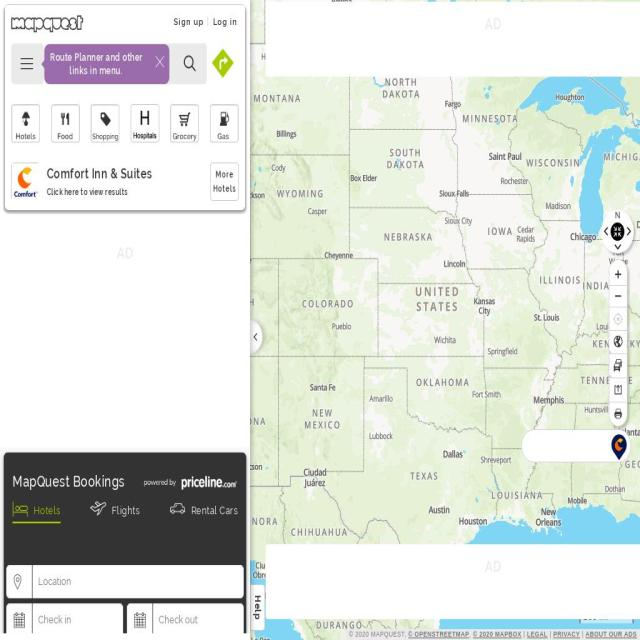button: (448, 429, 632, 463), (7, 5, 88, 38), (209, 104, 239, 143), (11, 104, 40, 143), (51, 104, 80, 143), (91, 104, 120, 143), (130, 104, 159, 143), (170, 104, 199, 143), (11, 162, 40, 201), (210, 162, 239, 201), (250, 584, 285, 604), (182, 50, 200, 78), (172, 15, 205, 29), (212, 15, 239, 29), (610, 222, 624, 241), (621, 224, 634, 241), (601, 224, 614, 241), (612, 237, 624, 253)
field: (6, 564, 244, 598), (6, 602, 123, 636), (127, 602, 244, 636), (56, 51, 180, 77)
image: (230, 259, 550, 640), (549, 259, 640, 640), (7, 13, 88, 34), (90, 104, 120, 143), (130, 104, 160, 143), (11, 104, 40, 143), (51, 104, 80, 143), (170, 104, 199, 143), (210, 104, 239, 143), (11, 162, 40, 201), (610, 432, 628, 462), (610, 222, 624, 241), (42, 44, 48, 84), (621, 224, 634, 241), (601, 224, 614, 241), (612, 237, 624, 253)
link: (408, 630, 469, 638), (585, 630, 637, 638), (472, 630, 522, 638), (553, 630, 581, 638), (527, 630, 548, 638)
text: (49, 51, 143, 77), (46, 163, 152, 185), (13, 472, 125, 490), (46, 185, 152, 199), (514, 437, 606, 451), (454, 438, 514, 451), (579, 609, 634, 623), (580, 597, 630, 611), (190, 503, 238, 517), (212, 170, 236, 193), (349, 630, 405, 638), (609, 307, 627, 331), (609, 354, 627, 378), (609, 331, 627, 354), (33, 503, 61, 517), (112, 503, 140, 517), (173, 16, 204, 28), (213, 16, 238, 28), (522, 630, 528, 638), (548, 630, 554, 638), (579, 630, 585, 638), (404, 630, 409, 638), (469, 630, 473, 638), (207, 16, 209, 27)
